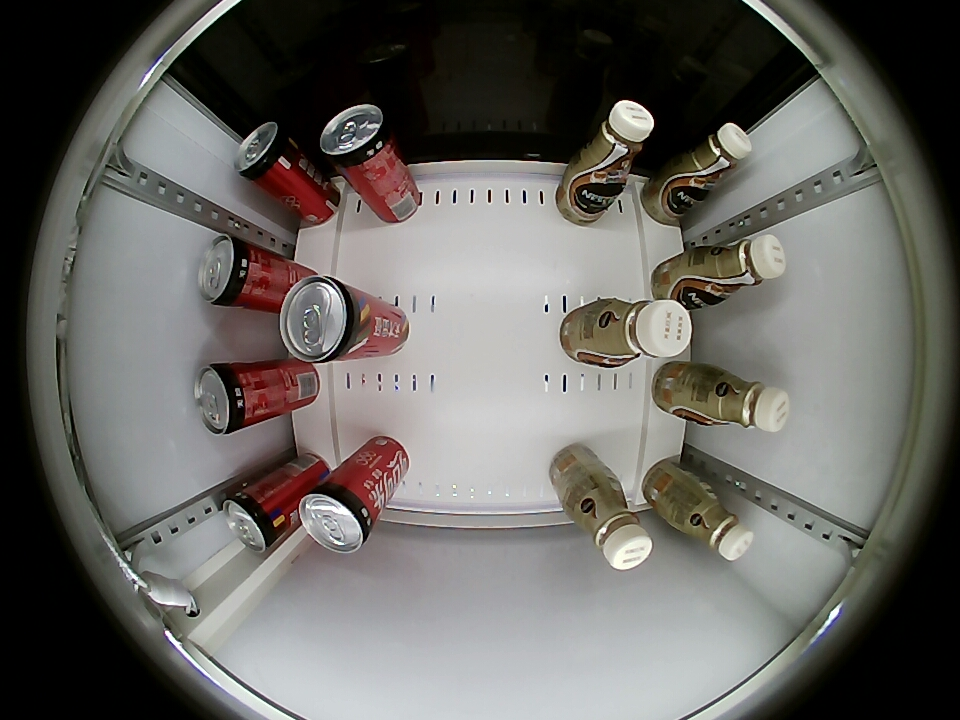kafei: (569, 100, 654, 191), (568, 482, 654, 570), (595, 299, 692, 369), (695, 233, 787, 305), (696, 368, 790, 433), (676, 485, 754, 561), (674, 123, 752, 197)
lingdukele: (278, 275, 368, 363), (298, 481, 379, 553), (319, 104, 396, 172), (199, 235, 264, 308), (223, 483, 289, 553), (195, 362, 257, 436), (234, 122, 300, 186)
